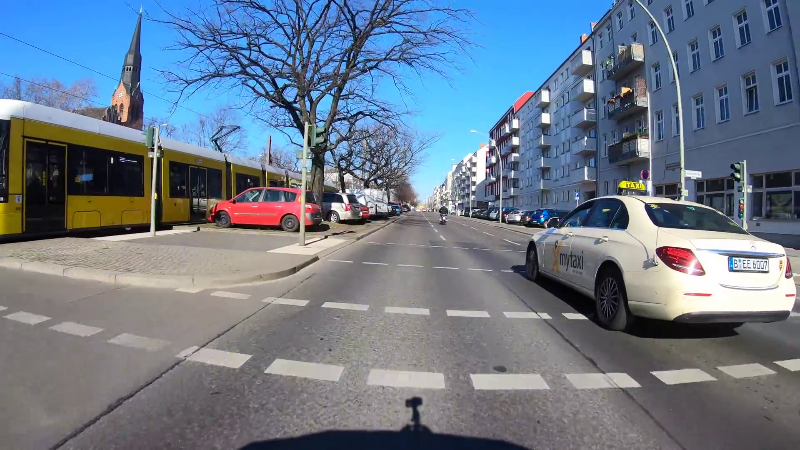Plate: (724, 254, 771, 274)
